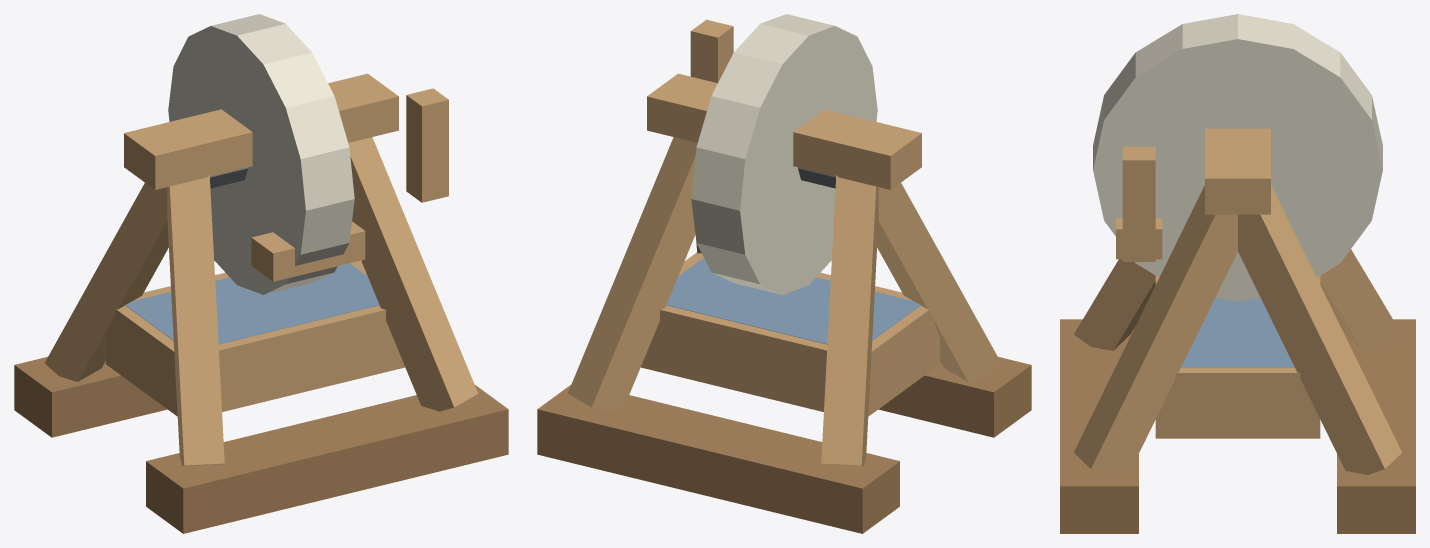
File: whetstone-wheel.glb
The picture shows the model from 3 angles, left to right: view 1: azimuth 30°, elevation 25°; view 2: azimuth 150°, elevation 25°; view 3: azimuth 270°, elevation 25°; orthographic projection. The views are drawn at different scales.
Visible parts, largest first — view 1: whetstone-wheel, whetstone-wheel/ashlar; view 2: whetstone-wheel, whetstone-wheel/ashlar; view 3: whetstone-wheel, whetstone-wheel/ashlar.
Boxes of the visible parts, bbox=[...] form: whetstone-wheel: bbox=[14, 73, 508, 533]; whetstone-wheel/ashlar: bbox=[168, 14, 354, 294]; whetstone-wheel: bbox=[537, 19, 1031, 533]; whetstone-wheel/ashlar: bbox=[691, 14, 877, 294]; whetstone-wheel: bbox=[1060, 128, 1415, 533]; whetstone-wheel/ashlar: bbox=[1093, 14, 1382, 301].
Size of the model in its own units: 1.2 by 1.42 by 1.08.
